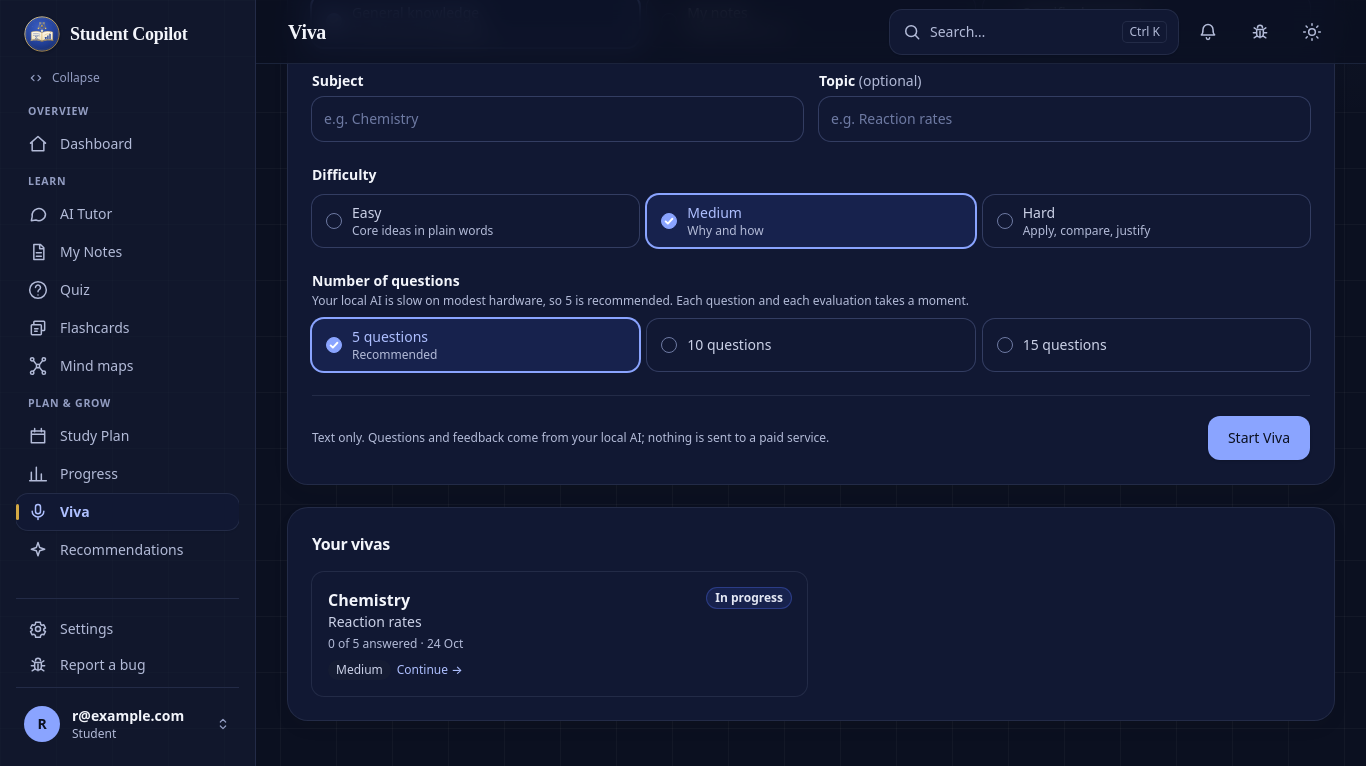
ending, history and ownership › an unfinished viva can be continued from history
The width and height of the screenshot is (1366, 766).
(page scrolled)
Expected: the link "Chemistry" shows "0 of 5 answered", [312,572,807,696]
Click the text "Continue →".
click(430, 670)  # box [397,662,463,678]
(page scrolled)
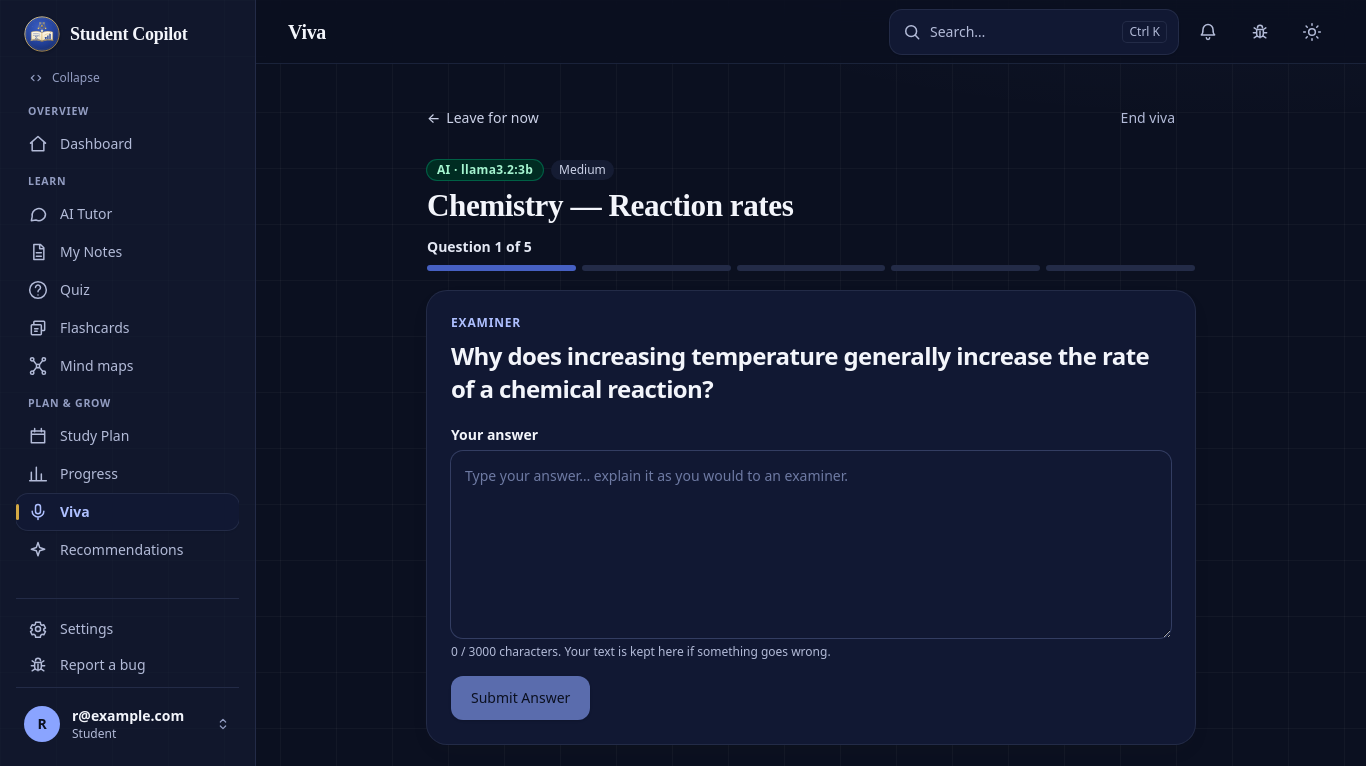
Now the text "Question 1 of 5" is shown, box [427,237,532,256]
